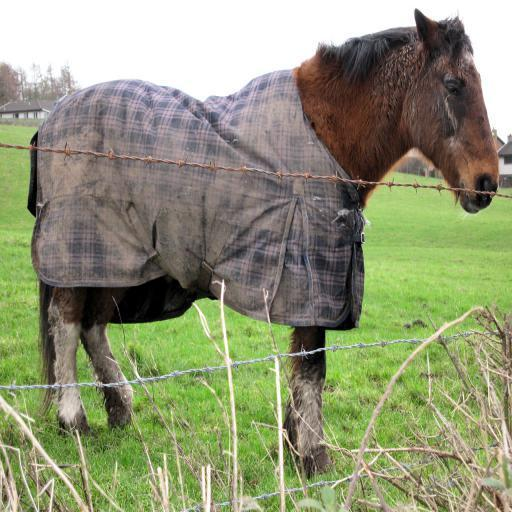horse: (32, 4, 500, 478)
